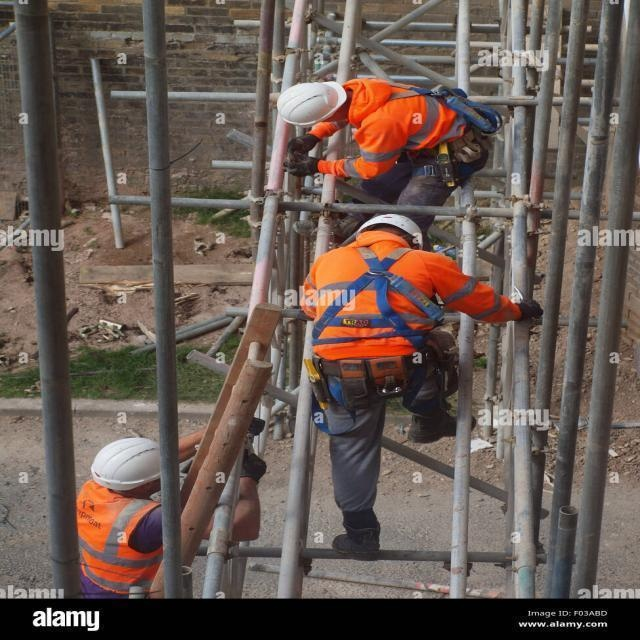Arnes_seguridad: (307, 242, 438, 363)
